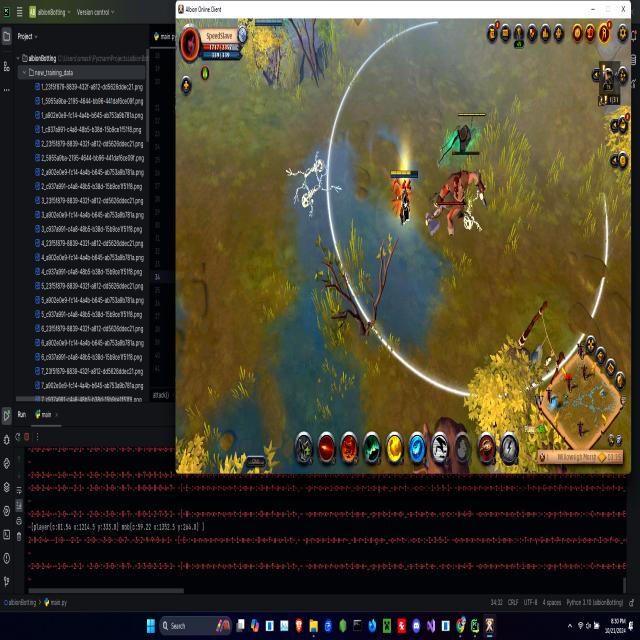ore: (427, 148, 485, 238), (430, 183, 462, 223)
red: (388, 165, 422, 234), (252, 17, 285, 34)
